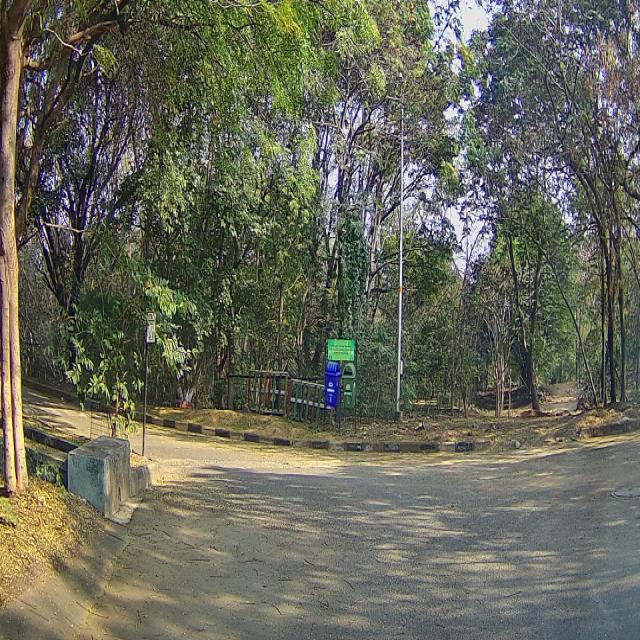dustbin ahead at: (321, 350, 359, 434)
